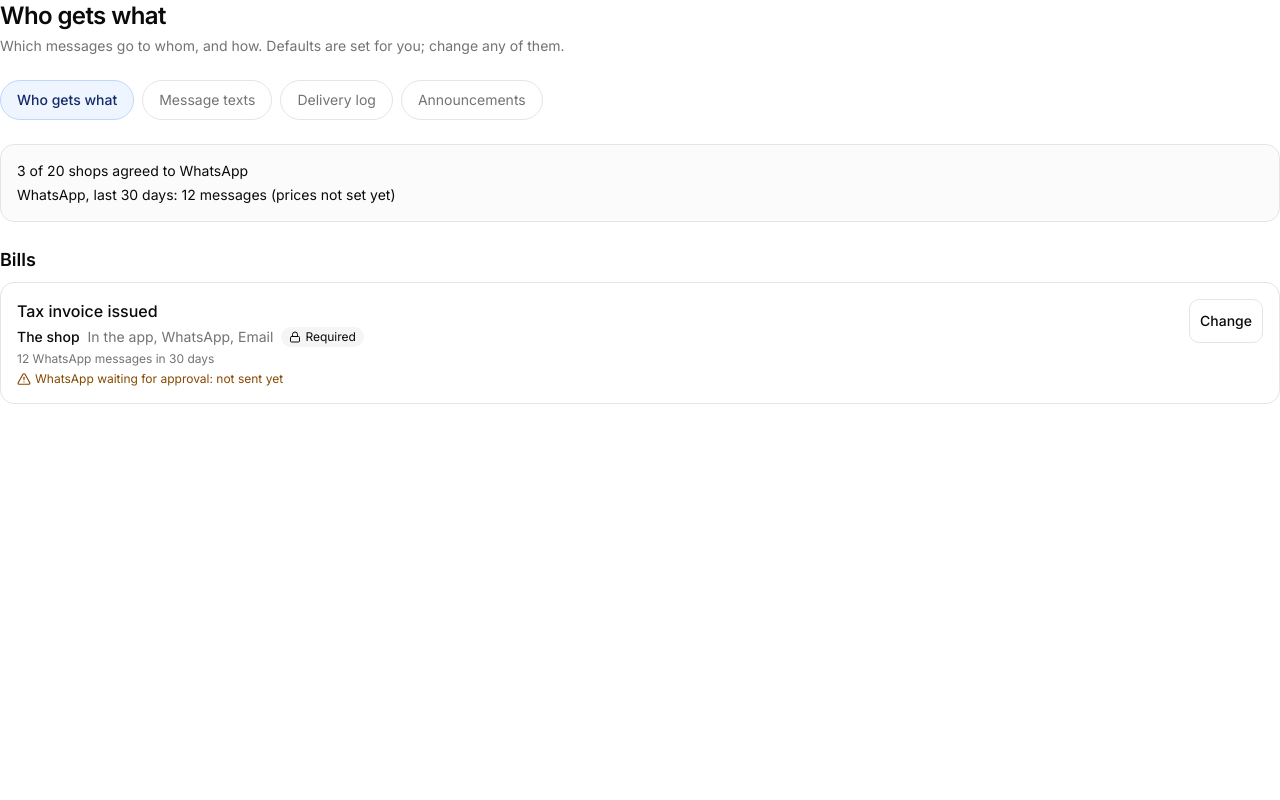
Test case: WhatsApp waiting for the provider's approval › warns where a rule already uses a text that isn't approved
Check: the text "WhatsApp waiting for approval: not sent yet" is shown, box top-left (17, 371), bottom-right (283, 386)
Click the button with aria-label "Change: Tax invoice issued" at (1226, 321), box top-left (1189, 299), bottom-right (1263, 343)
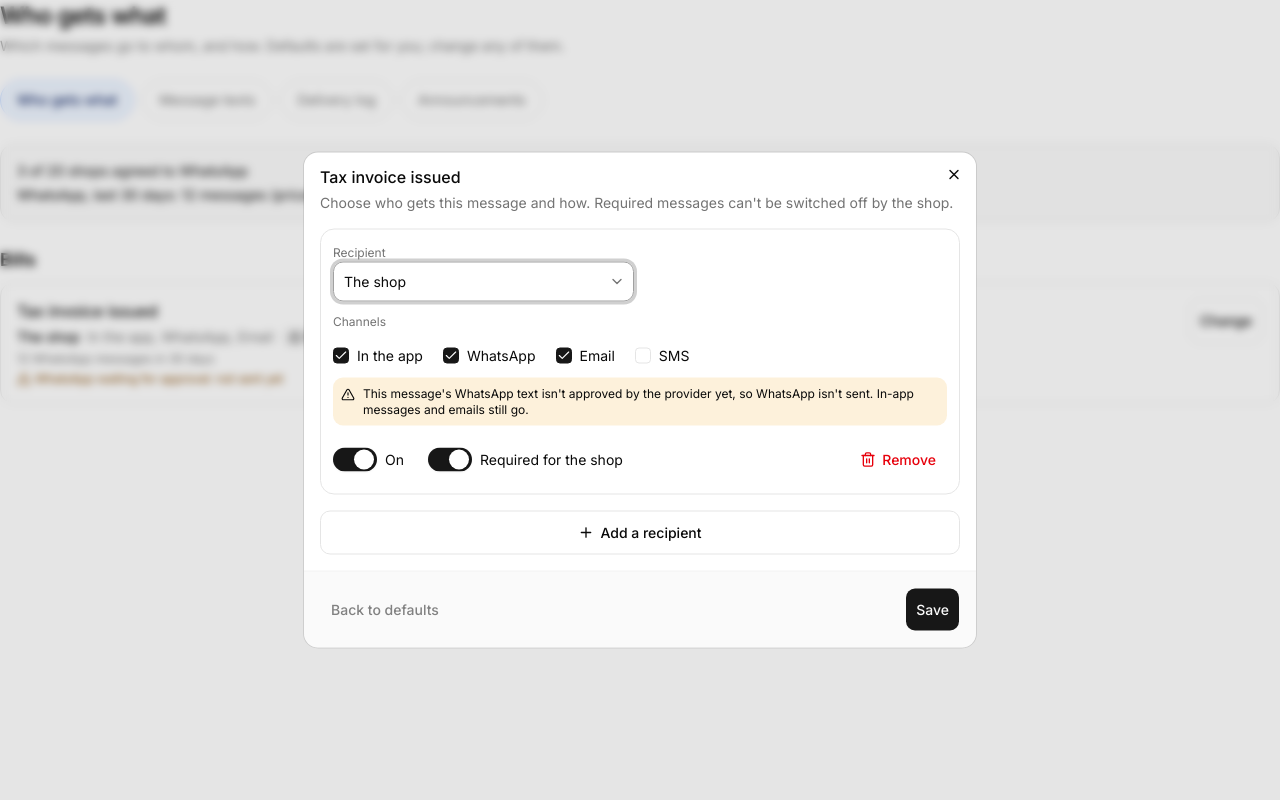
Check: the 2nd checkbox named "WhatsApp" is enabled, box top-left (443, 348), bottom-right (459, 364)
Check: the text "isn't approved by the provider yet" is shown, box top-left (363, 386), bottom-right (914, 416)
